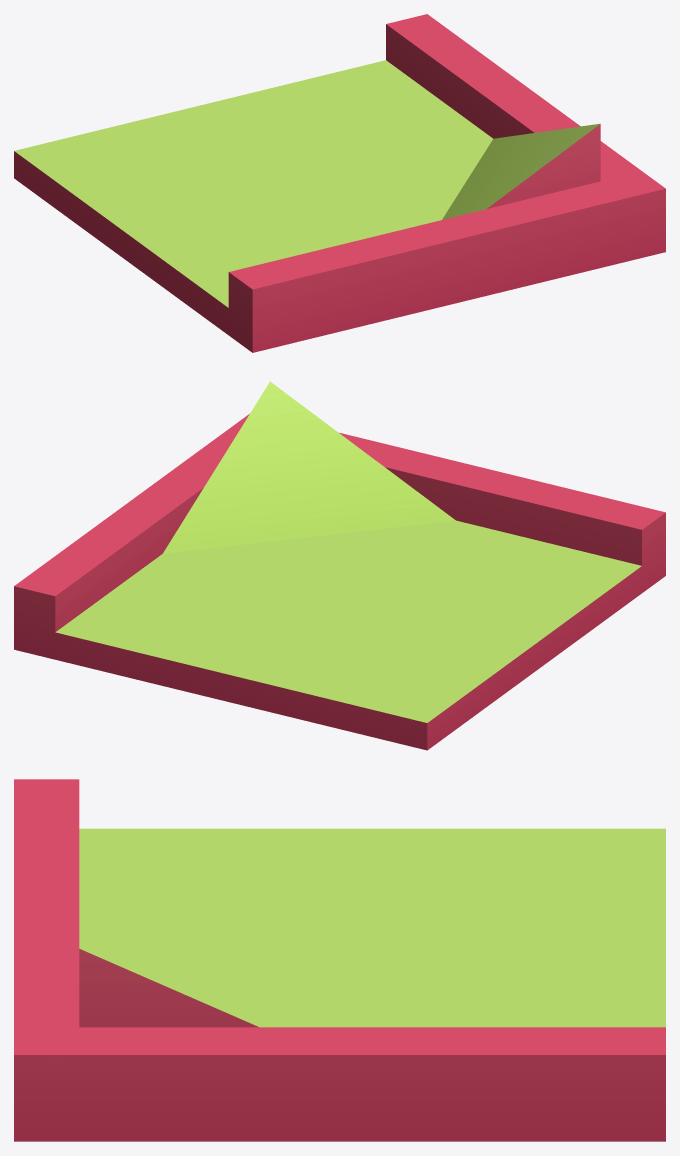
File: hill-corner.fbx
The picture shows the model from 3 angles, top to bottom: view 1: azimuth 30°, elevation 25°; view 2: azimuth 150°, elevation 25°; view 3: azimuth 270°, elevation 25°; orthographic projection. The views are drawn at different scales.
Visible parts, largest first — view 1: hill_corner; view 2: hill_corner; view 3: hill_corner.
Part boxes in pixels (left/top/right/bottom): hill_corner: left=14, top=14, right=665, bottom=352; hill_corner: left=14, top=381, right=665, bottom=750; hill_corner: left=14, top=779, right=665, bottom=1141.
Bounding box in the file's own units: 99.99 × 28 × 99.99.
1 material, 1 textured.
